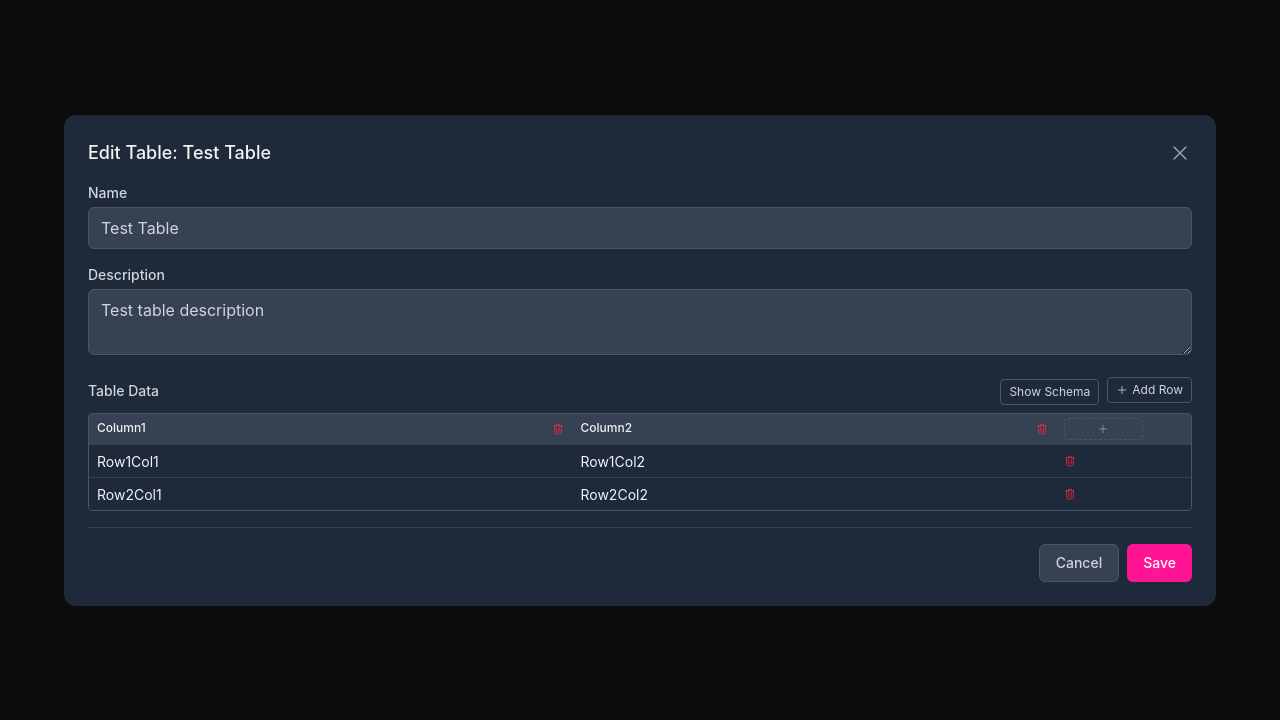
Test: KnowledgeUnitEditModal › Table editing › should add a new row to table
This screenshot has width=1280, height=720.
Click the button "Add Row". click: [1150, 390]
box: [1107,376,1192,402]
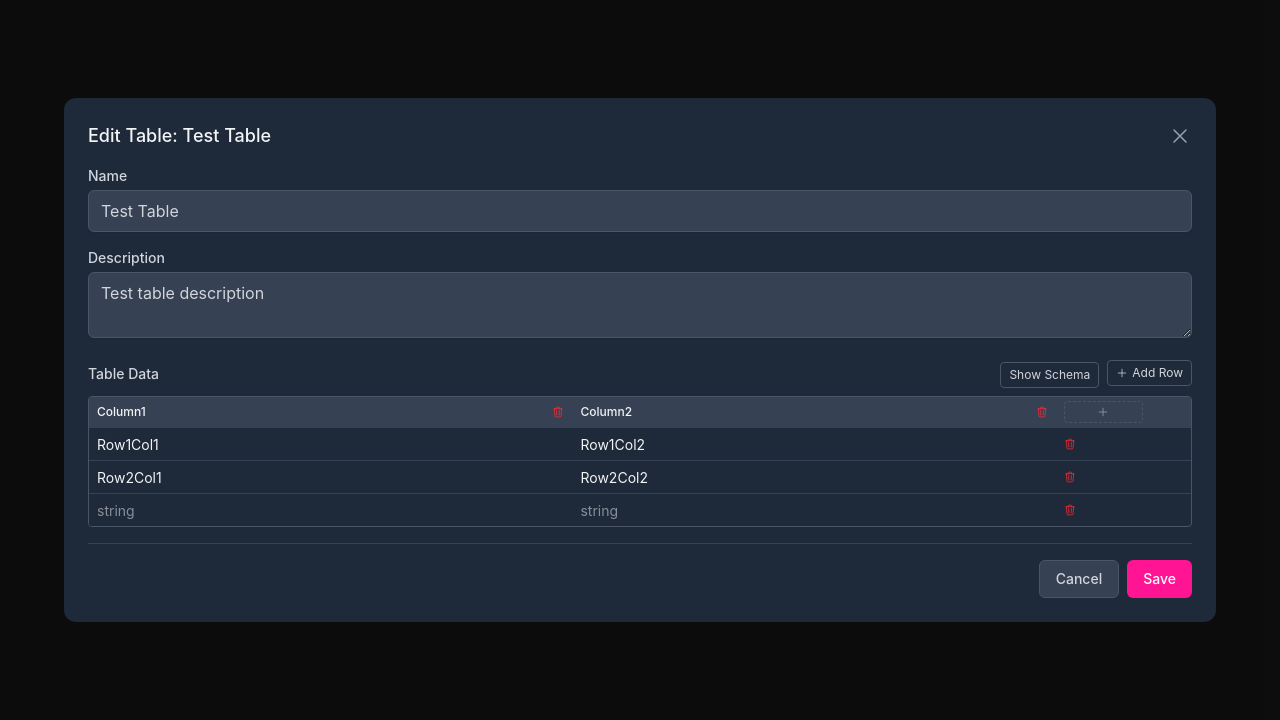
Now the number of rows is 4, box [89,397,1191,428]; [89,428,1191,460]; [89,460,1191,494]; [89,494,1191,526]
